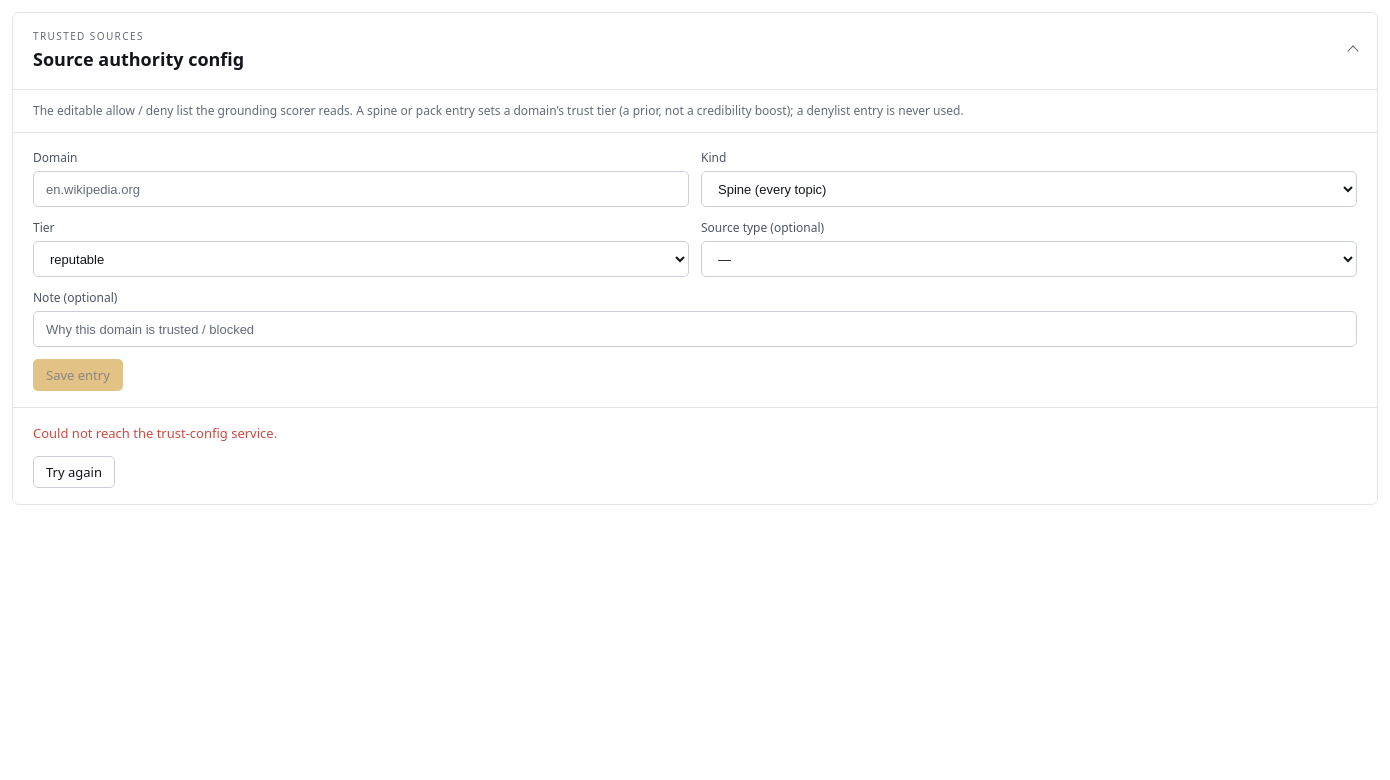
Test case: TrustedSourcesPanel › surfaces a load error and recovers on Try again
Check: the message "Could not reach the trust-config service. Try again" is shown, box [33,424,277,488]
Click the button "Try again". click: (74, 472)
box: [33,456,115,488]
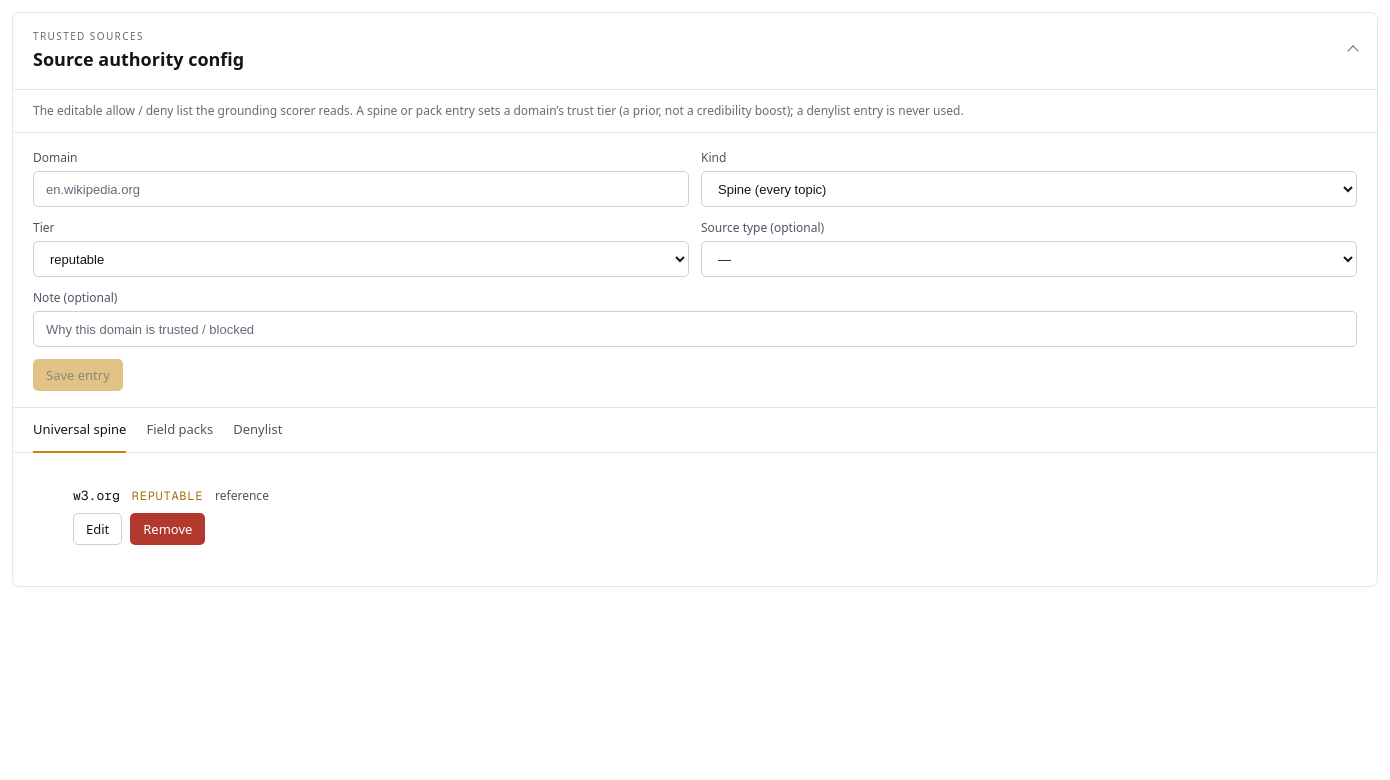
Check: the text "w3.org" is shown, box [73,486,120,505]
